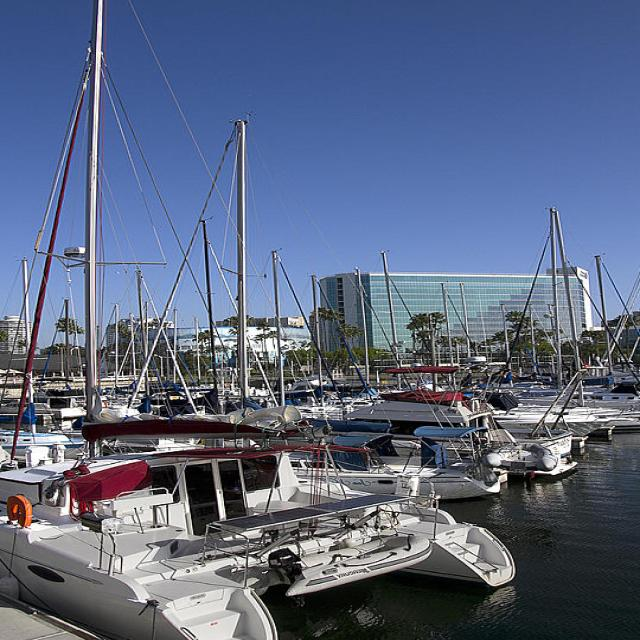houseboat: (0, 418, 440, 591)
